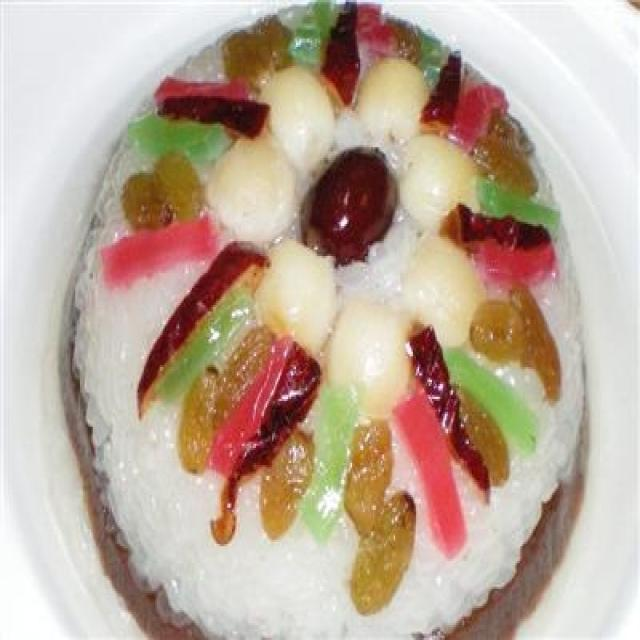米饭主食: (24, 4, 613, 634)
